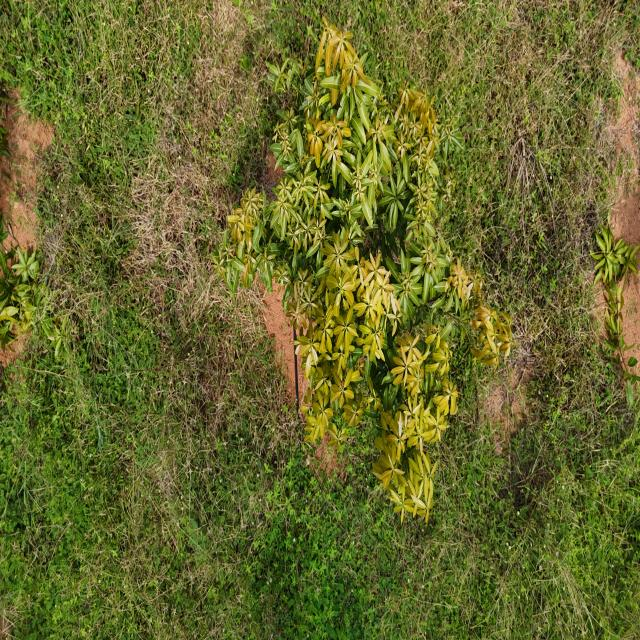mangoTree: (209, 12, 514, 529), (588, 221, 640, 376), (0, 202, 46, 364)
